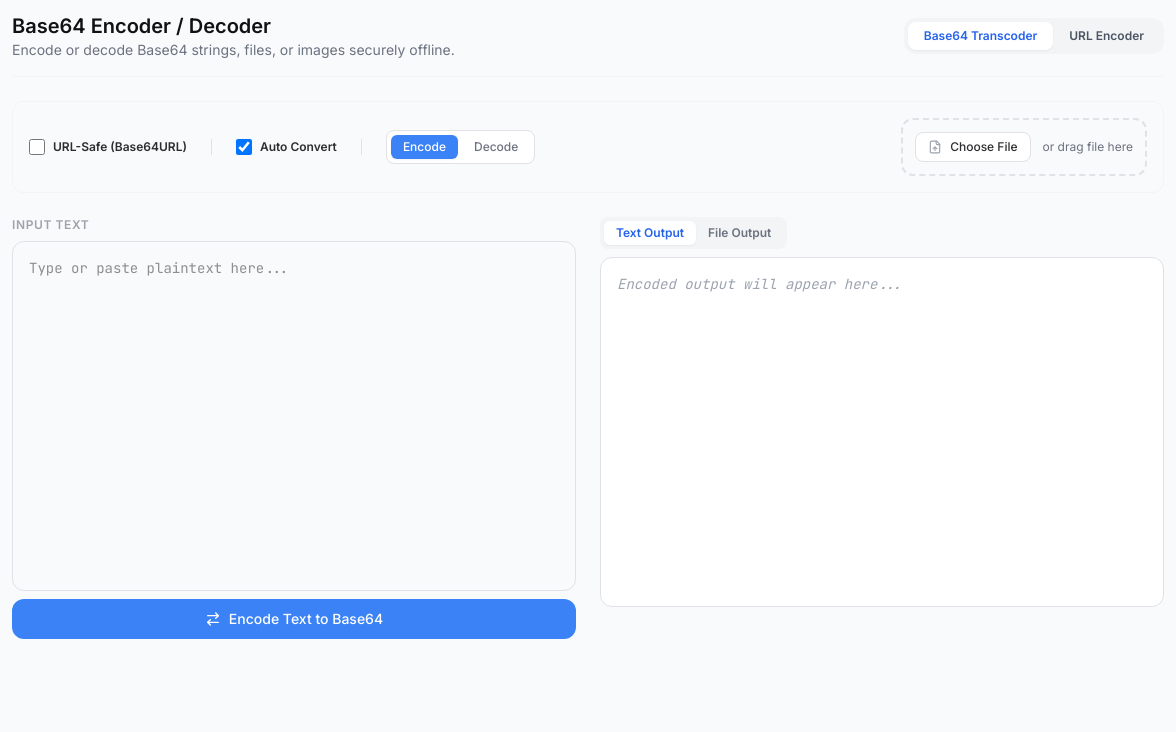
Scenario: Base64UrlTool Component › performs basic Base64 encoding automatically when text is input
In the text box with placeholder "Type or paste plaintext here...": (294, 416) [12, 241, 576, 591], type "hello"
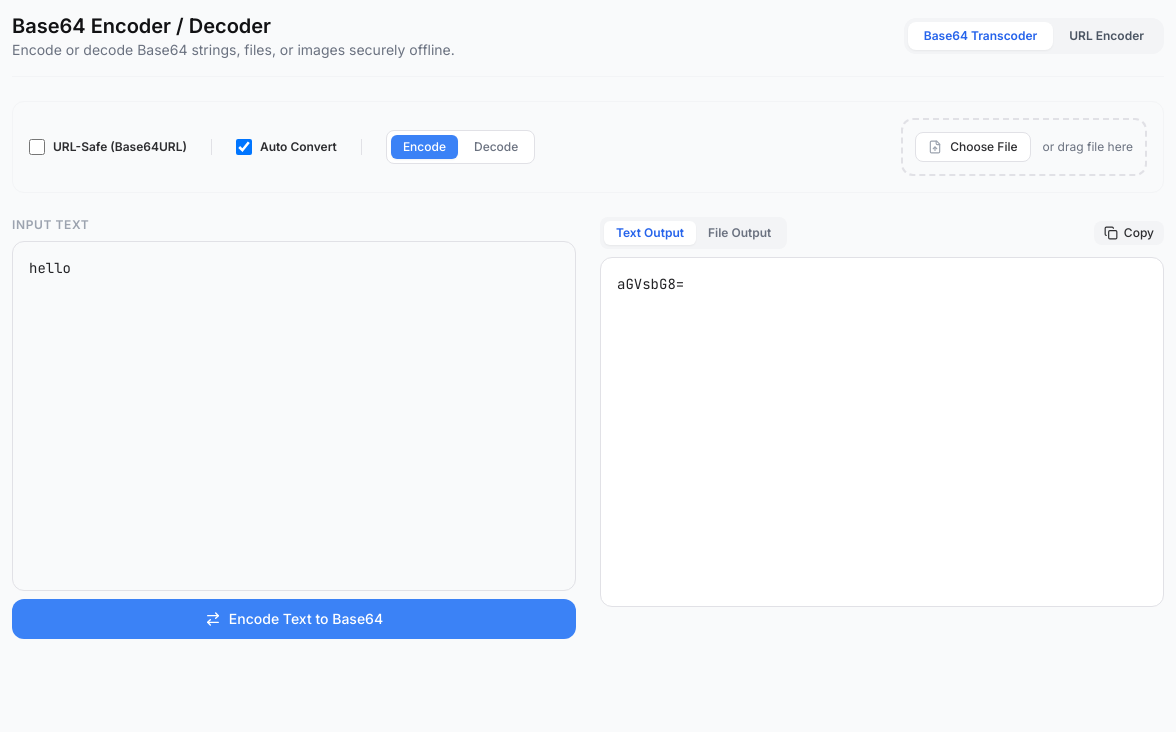
Expected: the text "aGVsbG8=" is shown, [600, 257, 1164, 607]
